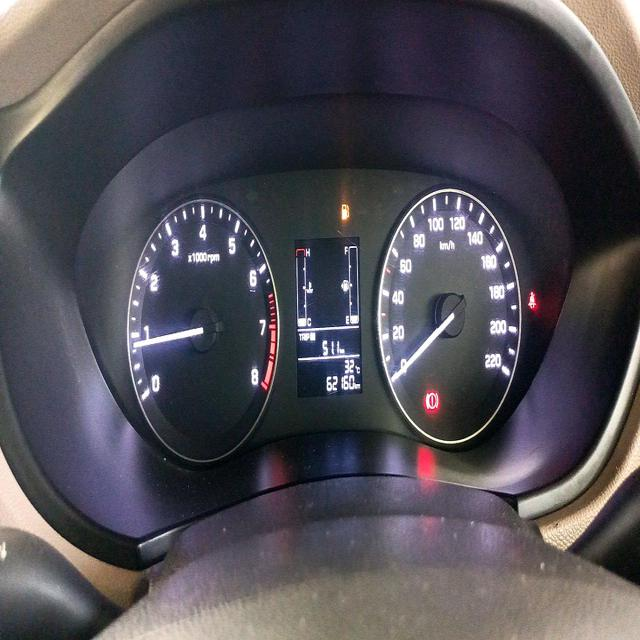odometer: (321, 372, 355, 393)
